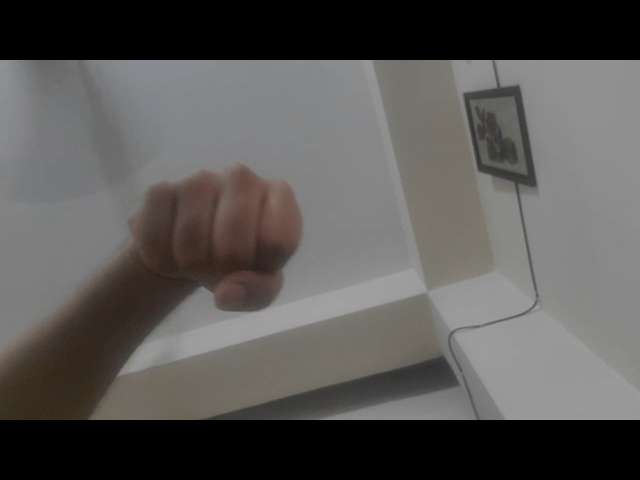Yes: (98, 155, 320, 320)
